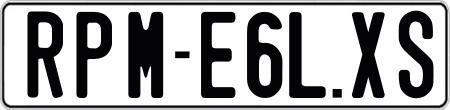6: (247, 12, 287, 98)
E: (200, 11, 238, 98)
L: (286, 9, 328, 98)
M: (126, 12, 161, 100)
P: (75, 12, 113, 98)
R: (24, 11, 66, 102)
S: (399, 11, 437, 98)
X: (352, 12, 386, 99)
